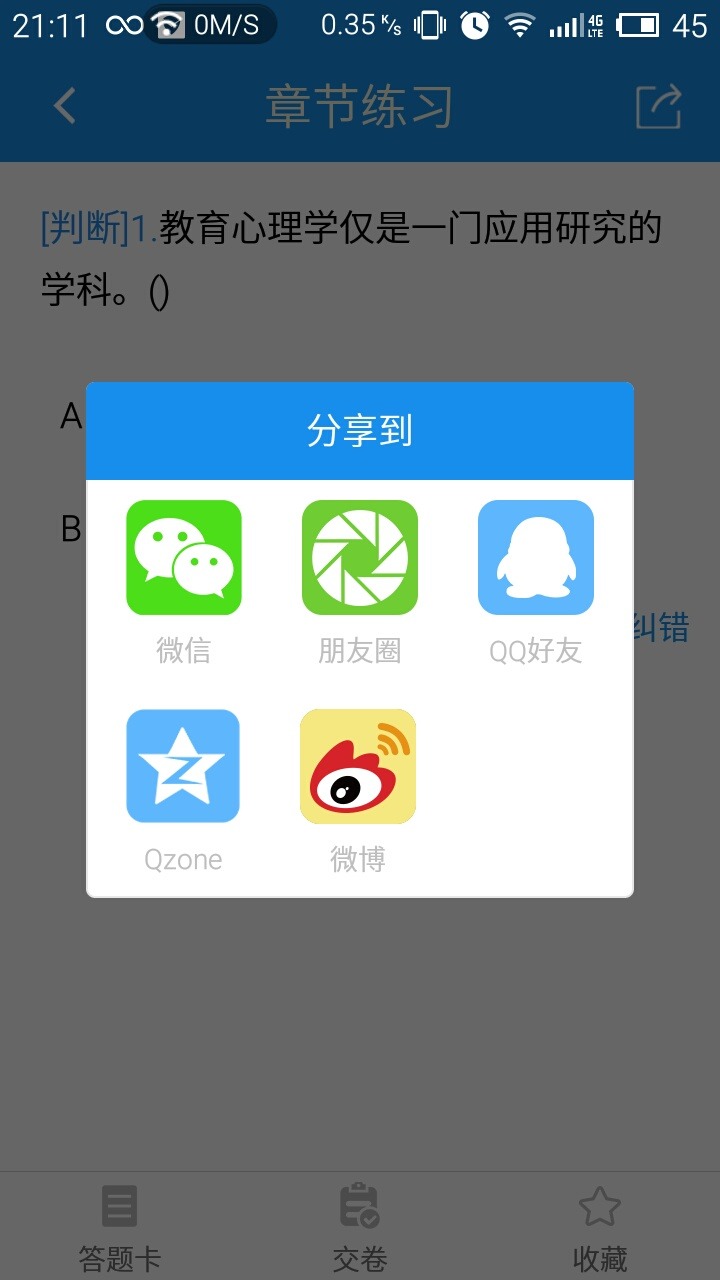alert: (79, 375, 647, 907)
imgbutton: (290, 491, 431, 627), (112, 496, 252, 631), (120, 706, 255, 834), (290, 702, 420, 834), (467, 498, 604, 622)
